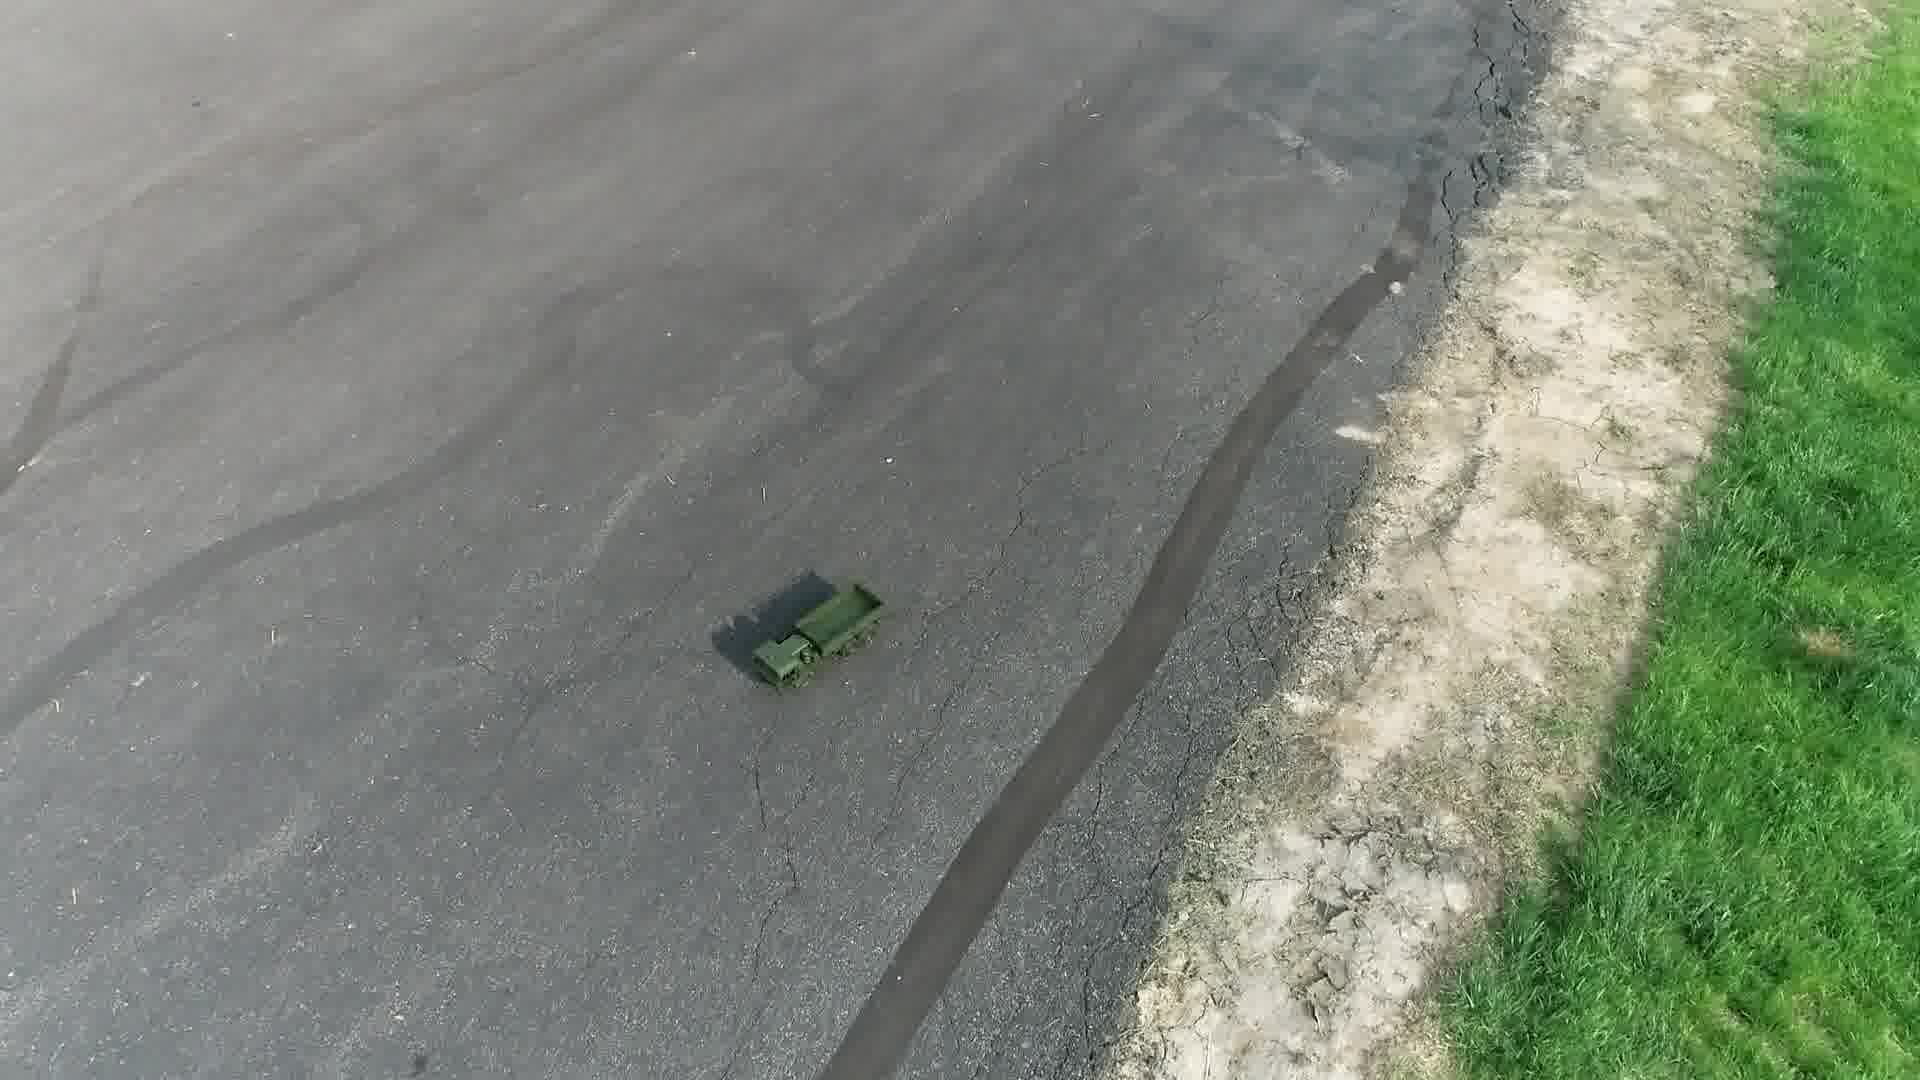transporter9: (745, 578, 897, 692)
